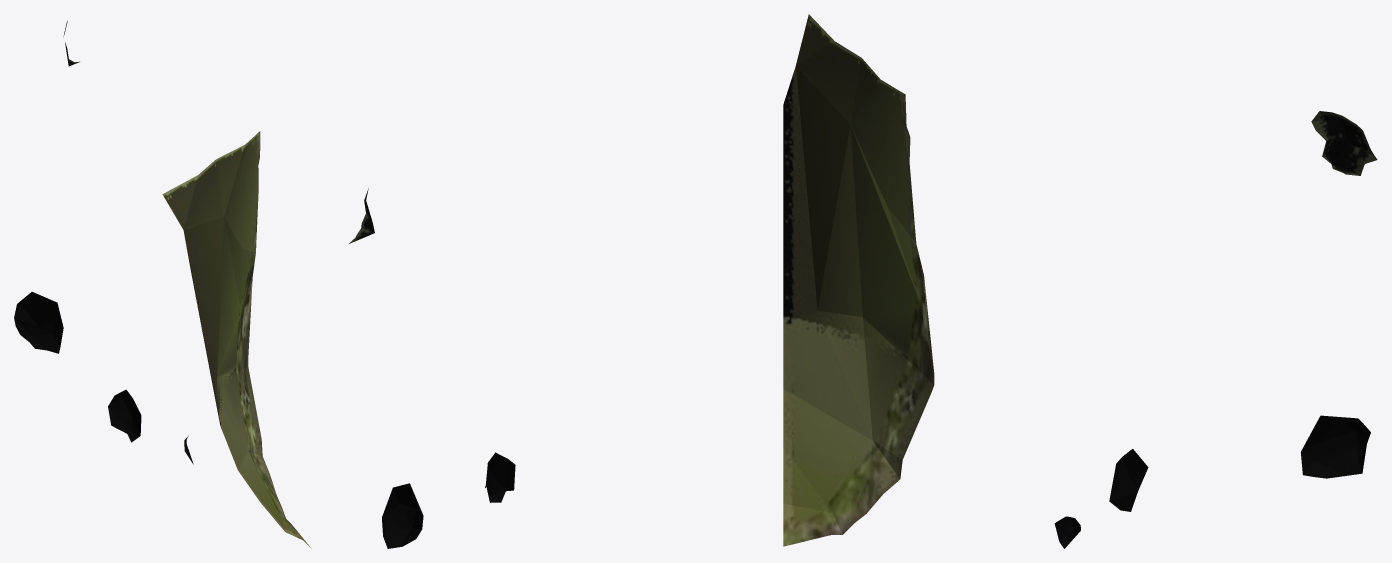
3 views of the same model, side by side, from view 1: azimuth 30°, elevation 25°; view 2: azimuth 150°, elevation 25°; view 3: azimuth 270°, elevation 25° (orthographic). The views are drawn at different scales.
Size of the model in its own units: 1.83 by 4.82 by 5.71.
Materials: 1 (1 with a texture image).
